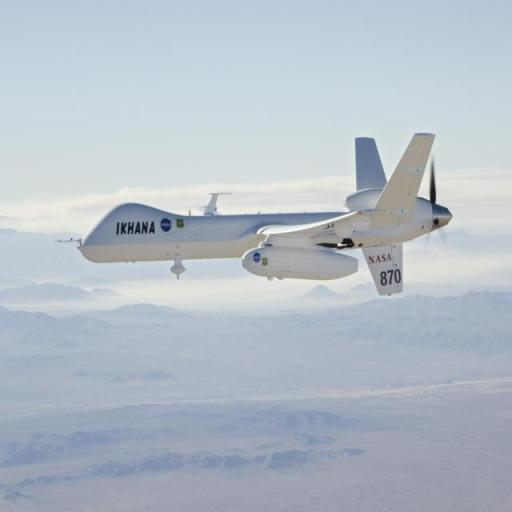uav: (56, 130, 456, 310)
